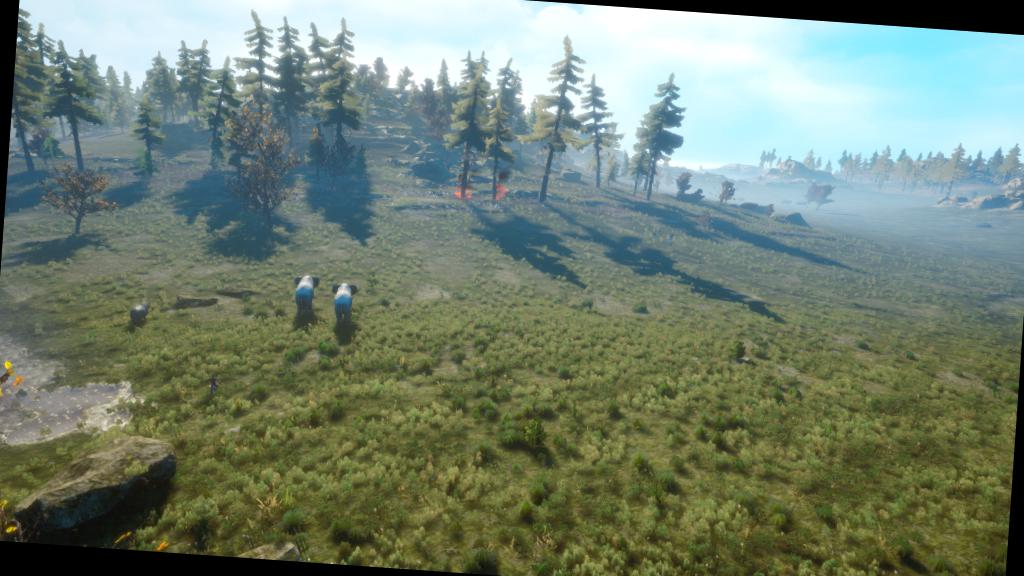elephant: (279, 263, 327, 339), (326, 266, 364, 346)
hippopotamus: (117, 284, 162, 338)
human: (191, 364, 232, 409)
